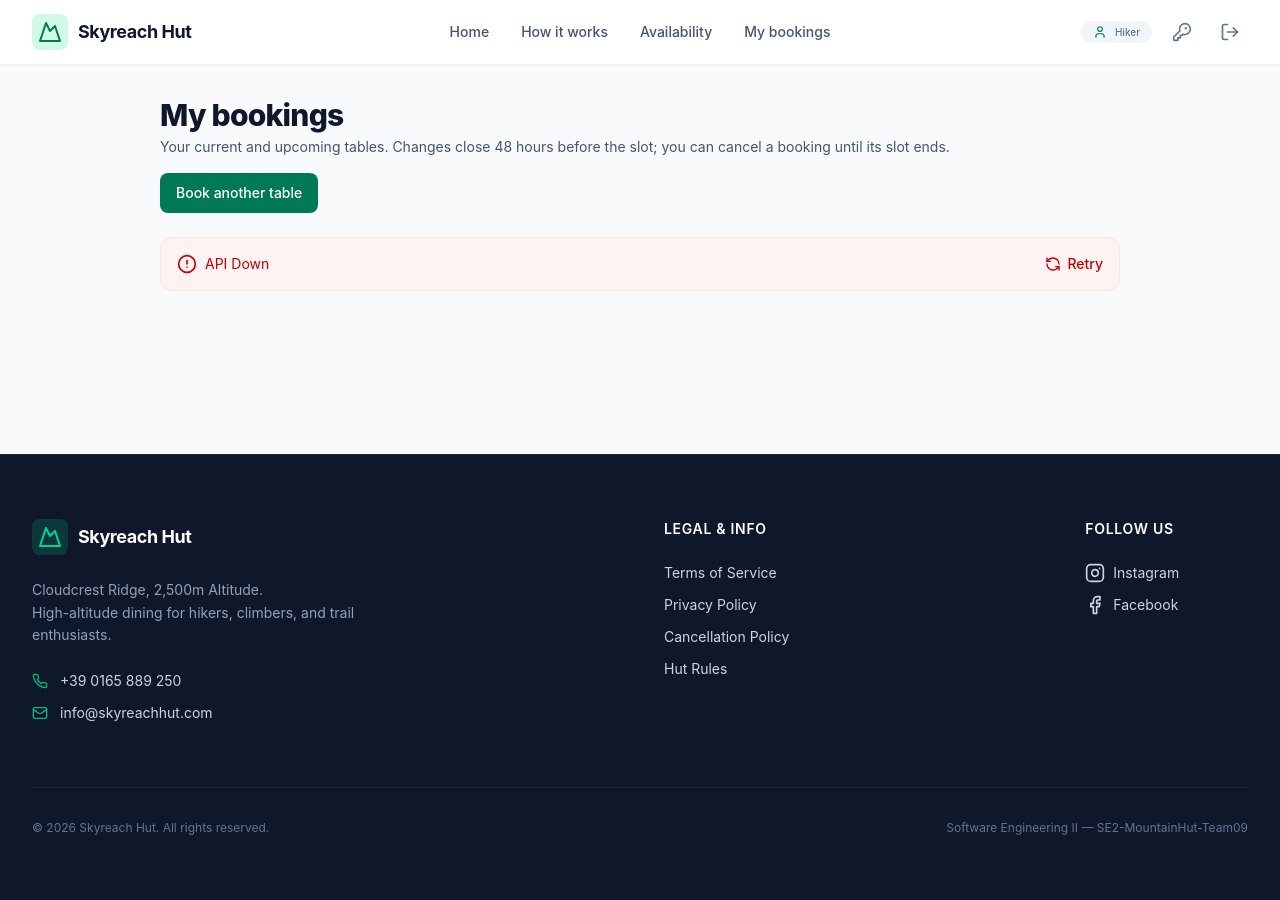
Test case: MyBookings Component › shows an error message and a retry button if the API fails
Expected: the message shows "API Down", [205,255,269,272]
Click the button "Retry" at (1074, 264), box [1045,254,1103,274]
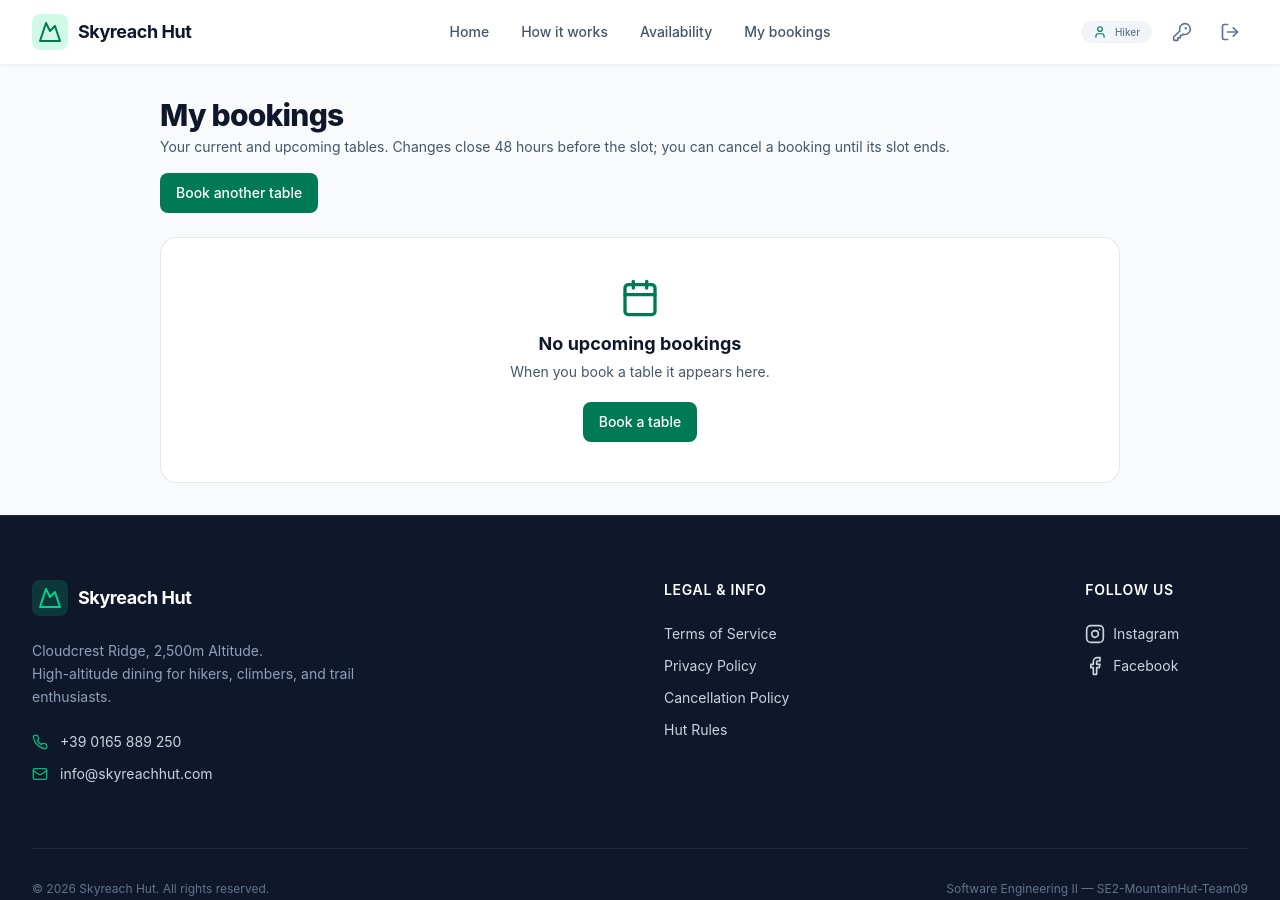
Expected: the heading "No upcoming bookings" is shown, [539,333,741,354]
